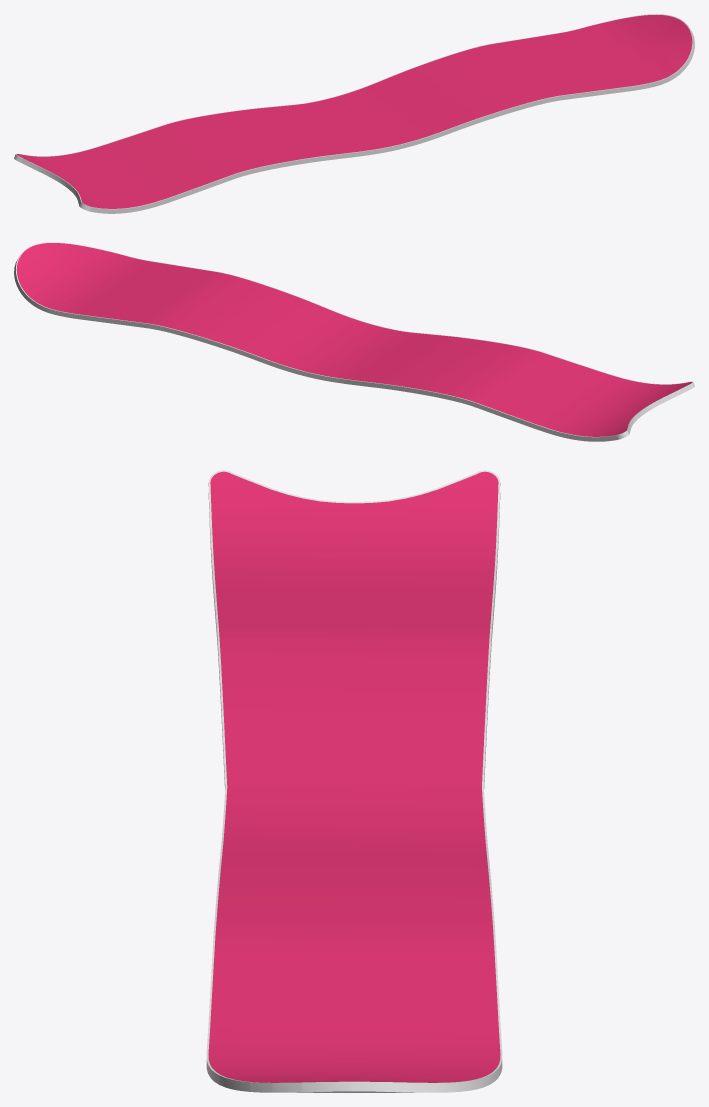
File: board_directional_hybrid-rocker.gltf
The picture shows the model from 3 angles, top to bottom: view 1: azimuth 30°, elevation 25°; view 2: azimuth 150°, elevation 25°; view 3: azimuth 270°, elevation 25°; orthographic projection. The views are drawn at different scales.
Parts seen in each view (by area): view 1: board-top, board-edge; view 2: board-top, board-edge; view 3: board-top, board-edge.
Boxes of the visible parts, x1,y1,x2,y2 form: board-top: (16,15,692,208); board-edge: (14,14,694,213); board-top: (16,243,692,436); board-edge: (14,242,694,441); board-top: (208,471,500,1082); board-edge: (206,470,502,1092).
Bounding box in the file's own units: 1.5 × 0.0612 × 0.3009.
